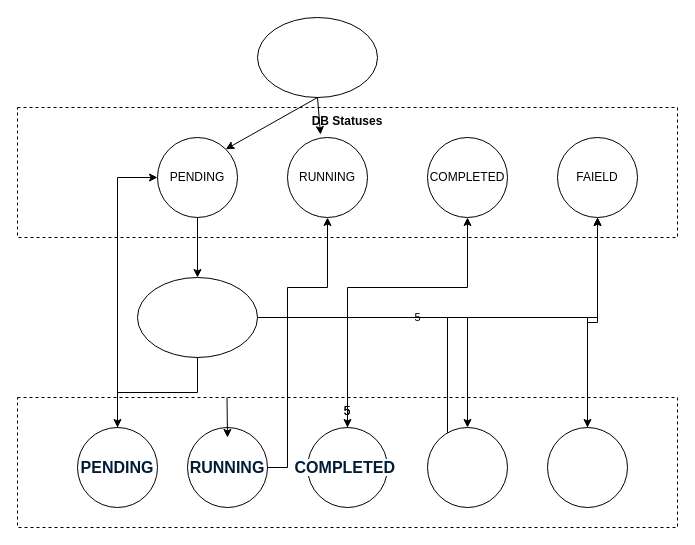
This 695x545 diagram has some shape labels left out. Each missing label, with the centre of its shape:
CANCELED: (587,467)
check scontrol output: (197,317)
FAILED: (467,467)
Monitor for non terminal states - pending and running jobs: (317,57)
